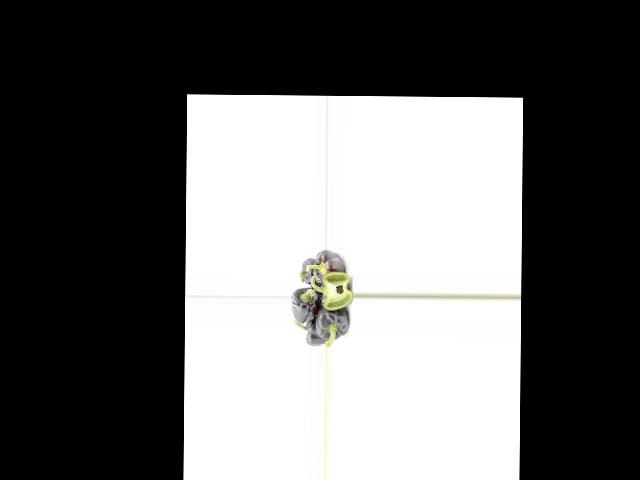bell_pepper: (313, 250, 343, 290)
